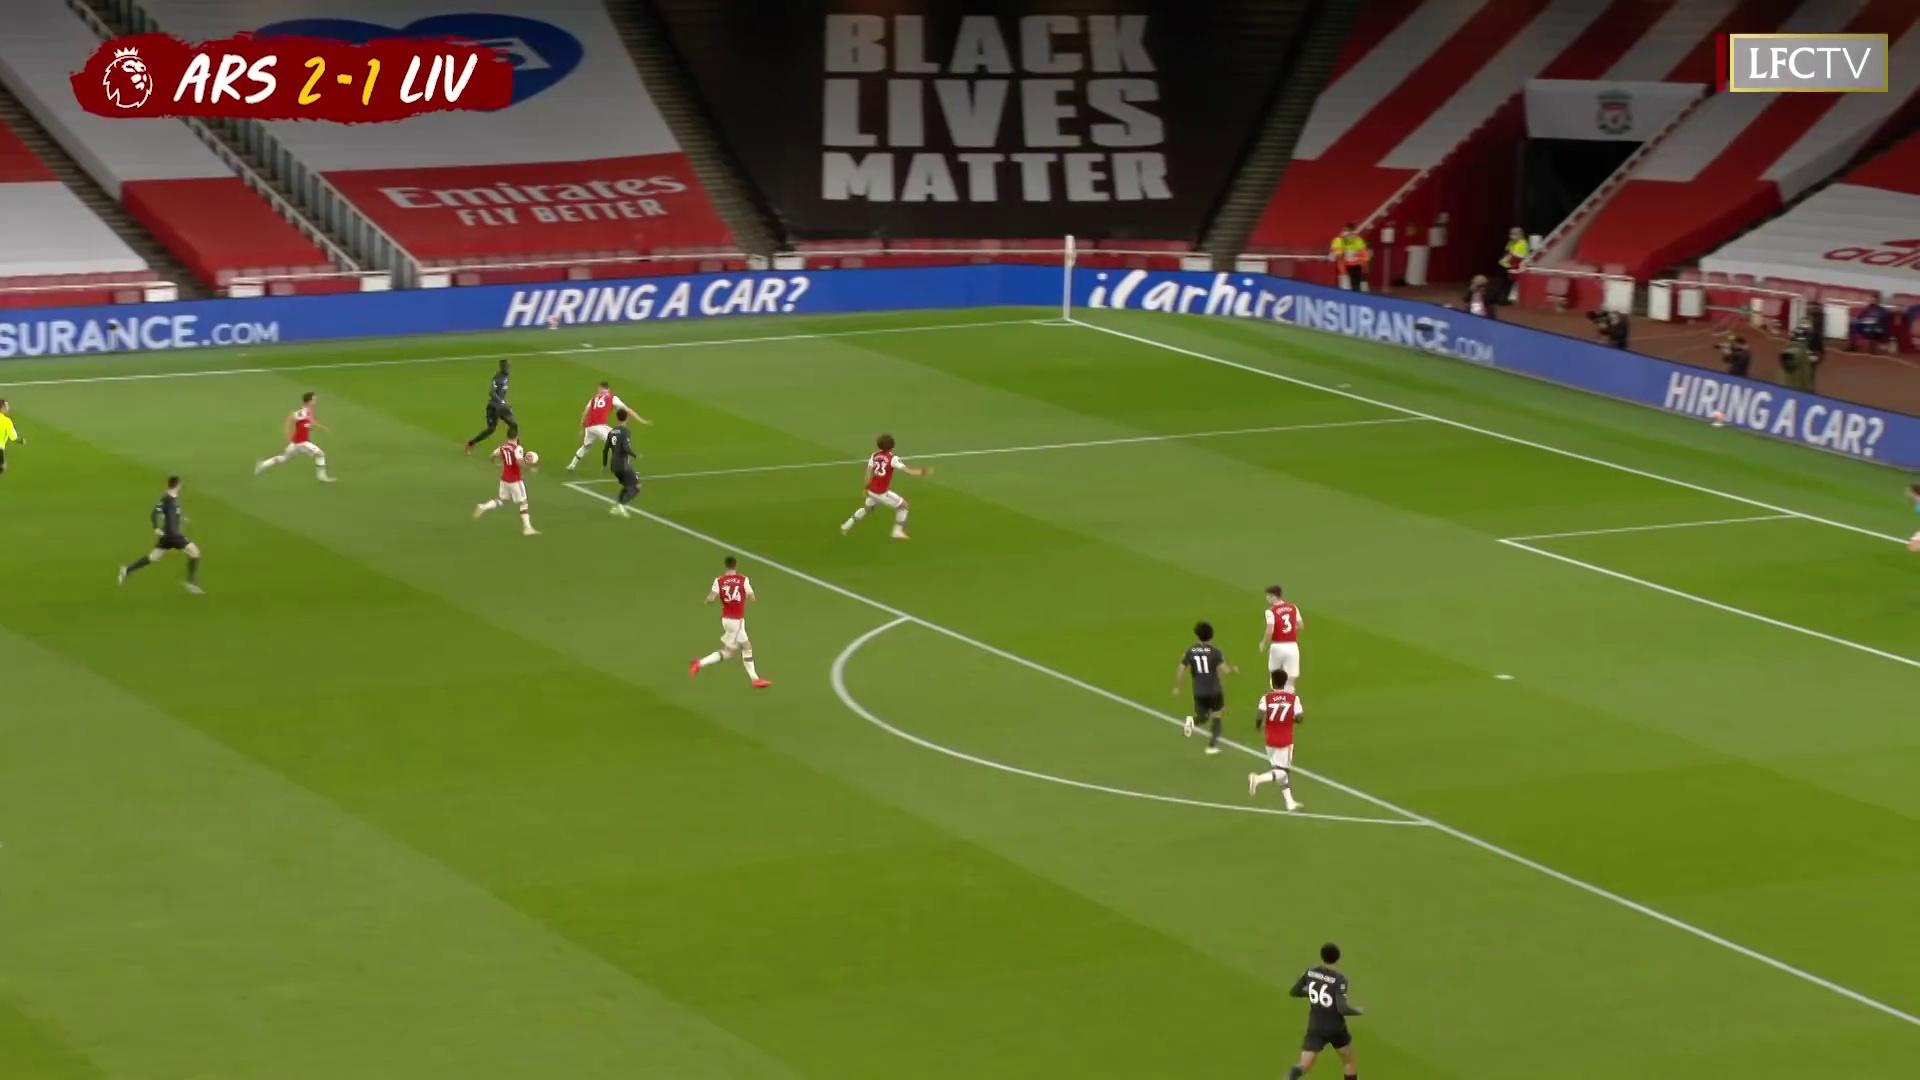ball: (523, 450, 541, 465)
